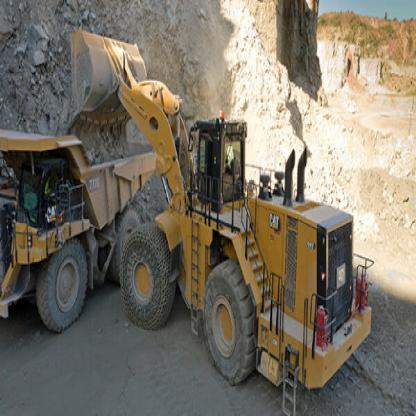bull_dozer/loader/grader: (66, 17, 374, 415)
